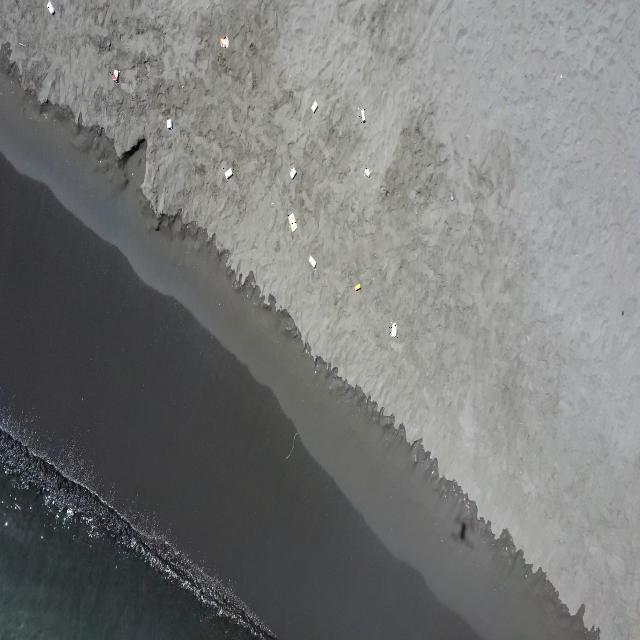Garbage: (287, 212, 296, 232), (111, 68, 119, 83), (45, 0, 54, 13), (223, 168, 232, 179), (388, 322, 395, 336), (288, 167, 296, 179), (220, 35, 227, 48), (308, 256, 316, 267), (311, 100, 318, 111), (166, 118, 172, 128), (353, 283, 360, 291), (360, 108, 364, 121), (364, 167, 369, 176), (449, 192, 452, 200), (18, 42, 24, 45)
